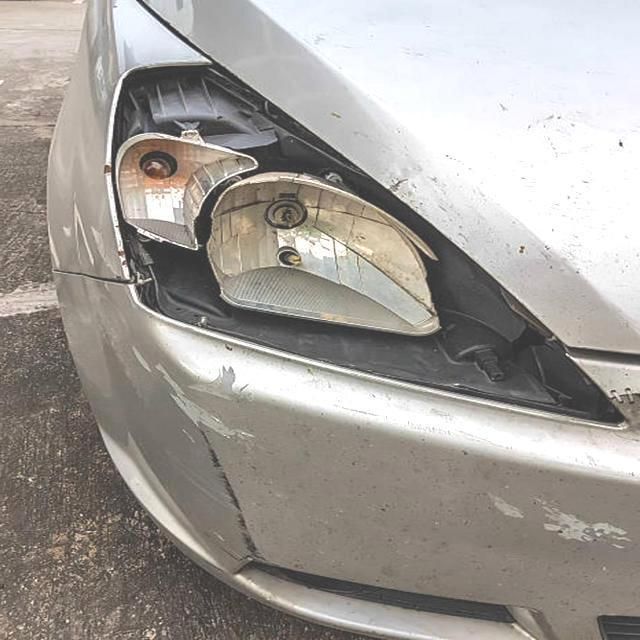minor: (187, 366, 242, 401)
moderate: (104, 56, 631, 431), (483, 488, 632, 554), (151, 368, 265, 448), (211, 463, 261, 562)
